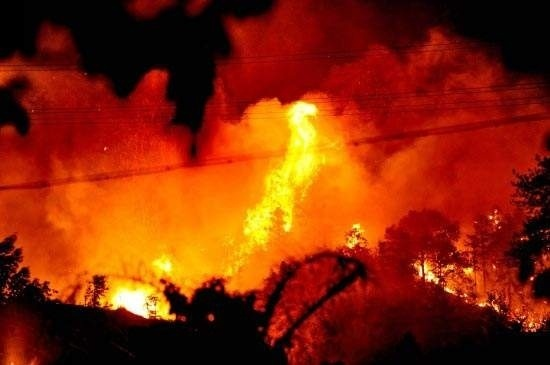fire: (217, 95, 335, 276), (410, 244, 547, 327), (104, 250, 181, 321), (342, 218, 372, 252)
